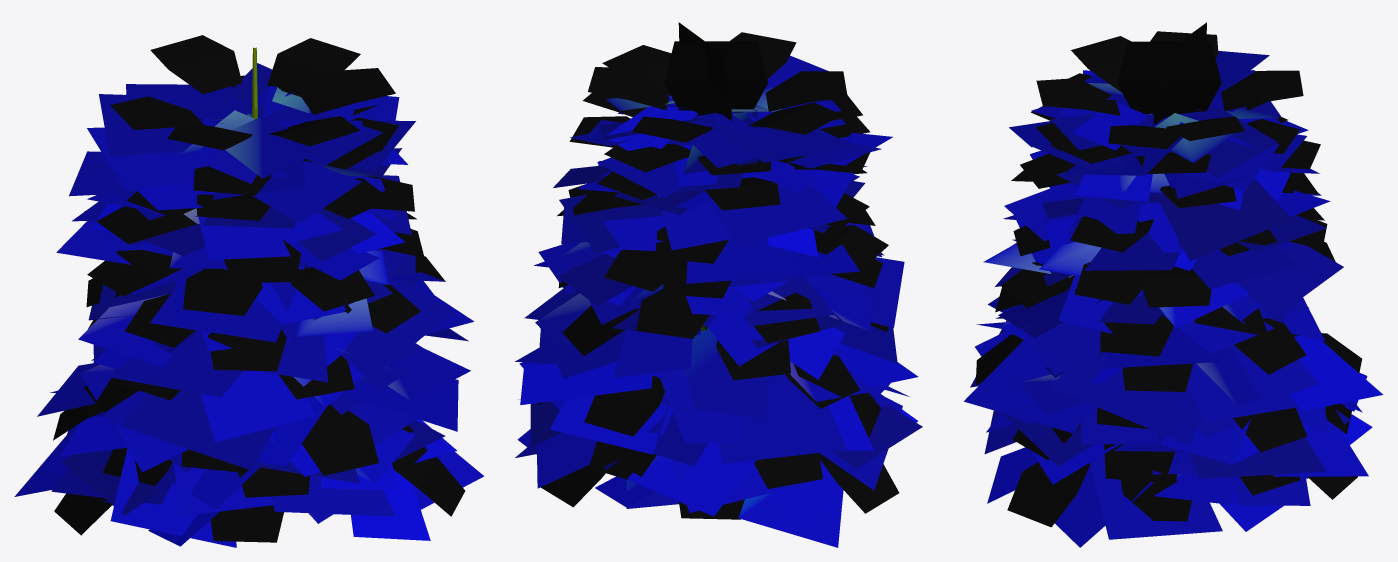
The model's file is tree_young_1.glb.
3 renders of one model, left to right at view 1: azimuth 30°, elevation 25°; view 2: azimuth 150°, elevation 25°; view 3: azimuth 270°, elevation 25°, orthographic. The views are drawn at different scales.
Visible parts, largest first — view 1: lod1_young_1; view 2: lod1_young_1; view 3: lod1_young_1.
Part boxes in pixels (x1,y1,x2,y2): lod1_young_1: [14, 35, 483, 547]; lod1_young_1: [515, 22, 922, 547]; lod1_young_1: [964, 22, 1383, 547].
Size of the model in its own units: 2.77 by 3.14 by 2.74.
